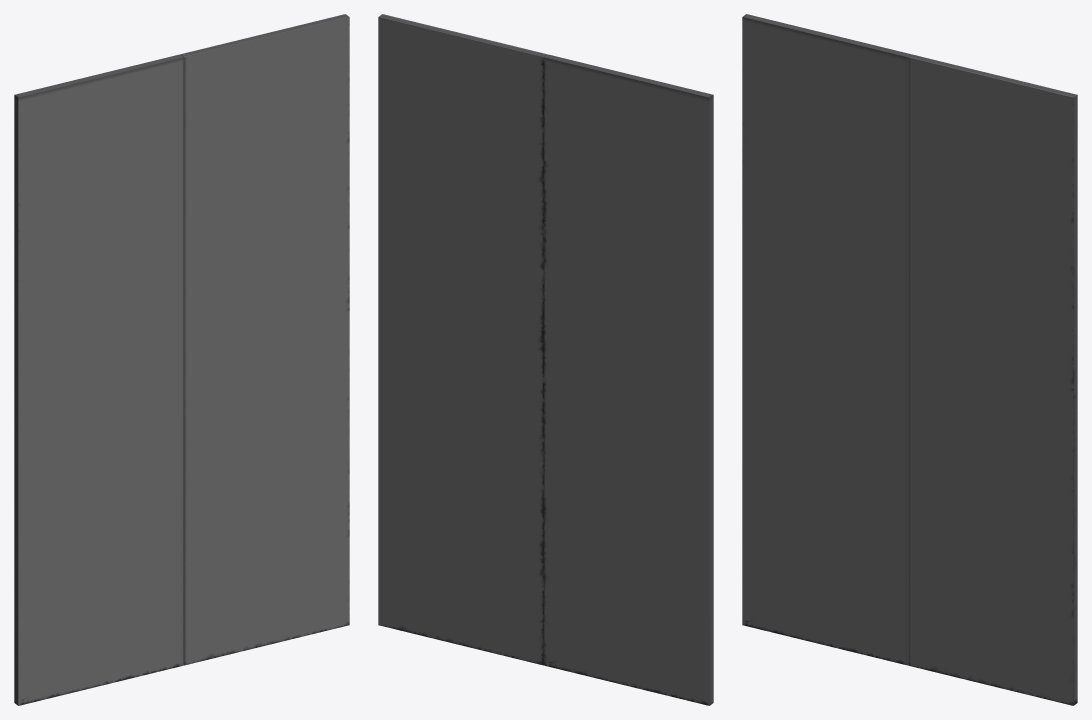
Rendered from SM_Elevator_Door.fbx.
The picture shows the model from 3 angles, left to right: view 1: azimuth 30°, elevation 25°; view 2: azimuth 150°, elevation 25°; view 3: azimuth 330°, elevation 25°; orthographic projection.
Visible parts, largest first — view 1: SM_Floor_SideWall.001; view 2: SM_Floor_SideWall.001; view 3: SM_Floor_SideWall.001.
Part boxes in pixels (left/top/right/bottom): SM_Floor_SideWall.001: left=14, top=14, right=349, bottom=705; SM_Floor_SideWall.001: left=378, top=14, right=713, bottom=705; SM_Floor_SideWall.001: left=742, top=14, right=1077, bottom=705.
Bounding box in the file's own units: 139 × 244 × 2.91.
